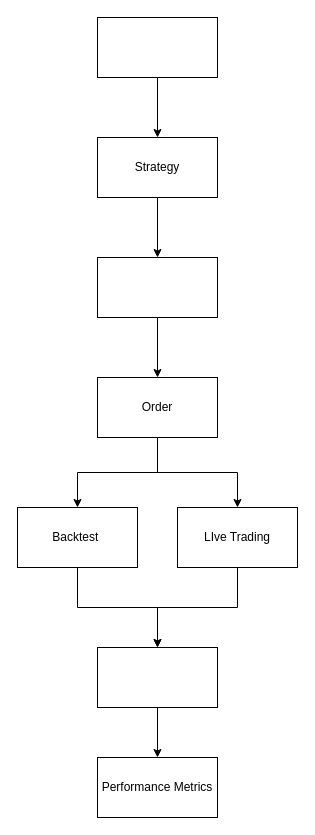
Image size: 315x835. Some labels were removed from this diagram. Each missing label, with the centre of its shape:
Historic Data: pixel 157 47
Order Hisotry: pixel 157 677
Signal: pixel 157 287
